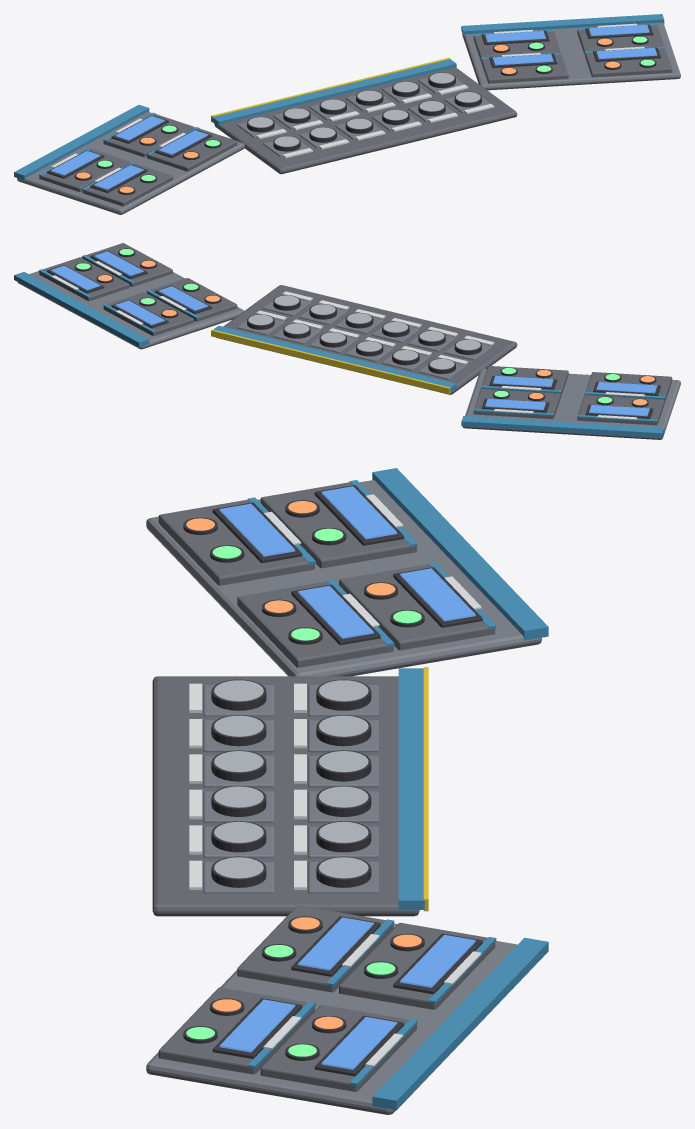
The model's file is DCS_Panel.fbx.
3 views of the same model, one above another, from view 1: azimuth 30°, elevation 25°; view 2: azimuth 150°, elevation 25°; view 3: azimuth 270°, elevation 25° (orthographic). The views are drawn at different scales.
Visible parts, largest first — view 1: CM_Plate, Right_Plate, Left_Plate, CM_Header, Right_Header, Left_Header, PS_Spare_house, PS_RPM_house, PS_pH_house, PS_AcidStroke_house, PS_AcidRatio_house, PS_Flow_house (+11 smaller); view 2: CM_Plate, Left_Plate, Right_Plate, Left_Header, CM_HeaderHaz, Right_Header, CM_Header, PS_Tekanan_house, PS_Suhu_house, PS_Flow_house, PS_AcidRatio_house, PS_RPM_house (+11 smaller); view 3: CM_Plate, Left_Plate, Right_Plate, CM_Header, Right_Header, Left_Header, PS_AcidStroke_house, PS_pH_house, PS_AcidRatio_house, PS_Flow_house, PS_Suhu_house, PS_Tekanan_house (+27 smaller).
Part boxes in pixels (box(x1,y1,x2,y2)): CM_Plate: box(214, 67, 517, 174); Right_Plate: box(462, 22, 680, 90); Left_Plate: box(17, 112, 244, 214); CM_Header: box(212, 59, 456, 126); Right_Header: box(461, 14, 664, 35); Left_Header: box(14, 105, 149, 180); PS_Spare_house: box(585, 48, 672, 77); PS_RPM_house: box(481, 54, 568, 83); PS_pH_house: box(147, 128, 237, 171); PS_AcidStroke_house: box(82, 163, 172, 206); PS_AcidRatio_house: box(103, 114, 193, 157); PS_Flow_house: box(39, 149, 129, 192); CM_Plate: box(216, 285, 517, 394); Left_Plate: box(462, 368, 680, 439); Right_Plate: box(17, 257, 243, 349); Left_Header: box(461, 416, 664, 437); CM_HeaderHaz: box(211, 329, 450, 394); Right_Header: box(14, 272, 149, 347); CM_Header: box(213, 325, 456, 392); PS_Tekanan_house: box(39, 257, 129, 301); PS_Suhu_house: box(103, 292, 193, 335); PS_Flow_house: box(577, 395, 664, 425); PS_AcidRatio_house: box(473, 389, 560, 419); PS_RPM_house: box(147, 278, 237, 321); CM_Plate: box(152, 676, 419, 916); Left_Plate: box(146, 480, 541, 676); Right_Plate: box(146, 923, 517, 1114); CM_Header: box(398, 668, 424, 909); Right_Header: box(372, 937, 548, 1110); Left_Header: box(372, 468, 548, 640); PS_AcidStroke_house: box(158, 499, 314, 585); PS_pH_house: box(237, 581, 393, 667); PS_AcidRatio_house: box(339, 564, 495, 650); PS_Flow_house: box(260, 482, 416, 568); PS_Suhu_house: box(339, 922, 495, 1009); PS_Tekanan_house: box(260, 1005, 416, 1091).
Bounding box in the file's own units: 572 × 10.5 × 154.
